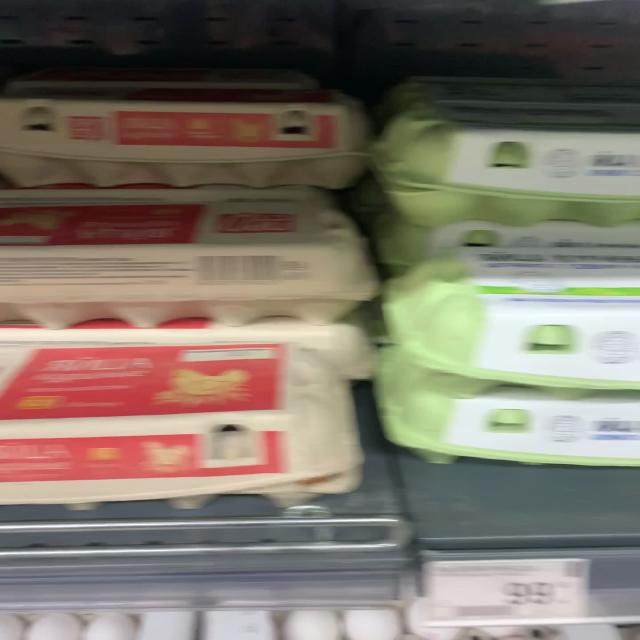egg box: (5, 340, 371, 505), (5, 199, 373, 325), (1, 74, 362, 194), (384, 249, 635, 388), (377, 99, 638, 228), (380, 362, 638, 480)
